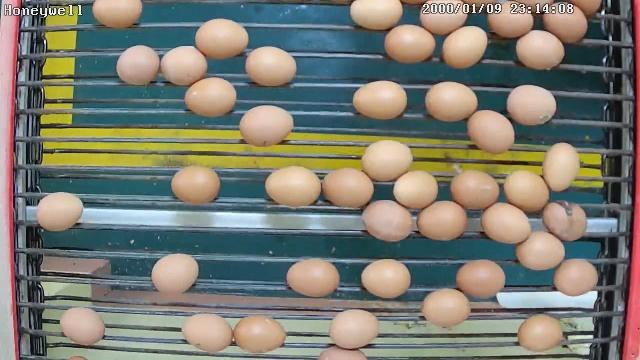egg: (193, 15, 250, 61), (264, 165, 322, 210), (237, 103, 294, 148), (352, 78, 410, 121), (360, 138, 414, 184), (284, 256, 342, 298), (244, 43, 298, 88), (184, 75, 238, 120), (359, 256, 411, 302), (360, 199, 414, 243), (328, 306, 382, 350), (424, 80, 480, 122), (506, 83, 558, 128), (383, 22, 437, 65), (512, 28, 566, 71), (480, 202, 532, 246), (320, 168, 374, 210), (468, 108, 516, 155), (170, 164, 222, 207), (182, 312, 234, 355), (416, 200, 468, 243), (542, 0, 588, 48), (503, 169, 551, 215), (440, 25, 489, 70), (150, 252, 200, 296), (540, 141, 583, 192), (451, 169, 502, 212), (542, 198, 588, 245), (233, 314, 287, 354), (453, 258, 507, 298), (158, 43, 208, 86), (34, 191, 85, 233), (514, 230, 566, 271), (422, 286, 472, 327), (486, 0, 536, 40), (516, 312, 566, 352), (553, 257, 600, 299), (114, 44, 160, 86), (58, 306, 105, 346), (393, 170, 440, 210), (347, 0, 405, 30), (421, 2, 472, 34), (92, 0, 144, 30)
